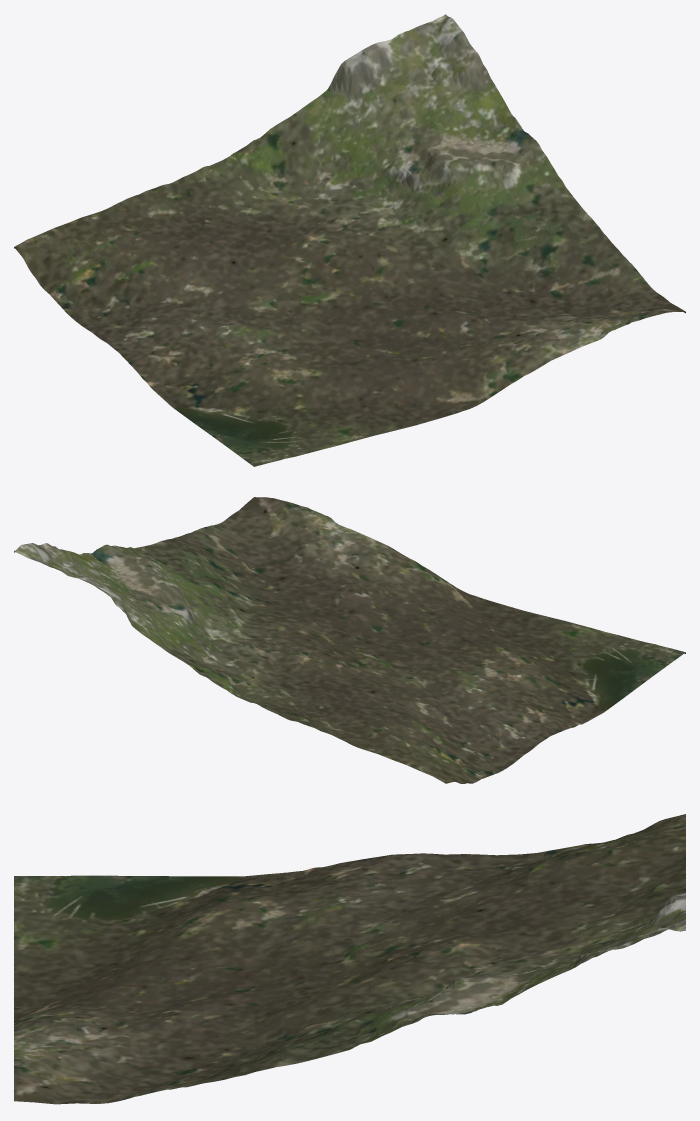
3 views of the same model, one above another, from view 1: azimuth 30°, elevation 25°; view 2: azimuth 150°, elevation 25°; view 3: azimuth 270°, elevation 25° (orthographic). The views are drawn at different scales.
Bounding box in the file's own units: 250 × 96.46 × 241.
1 material, 1 textured.
